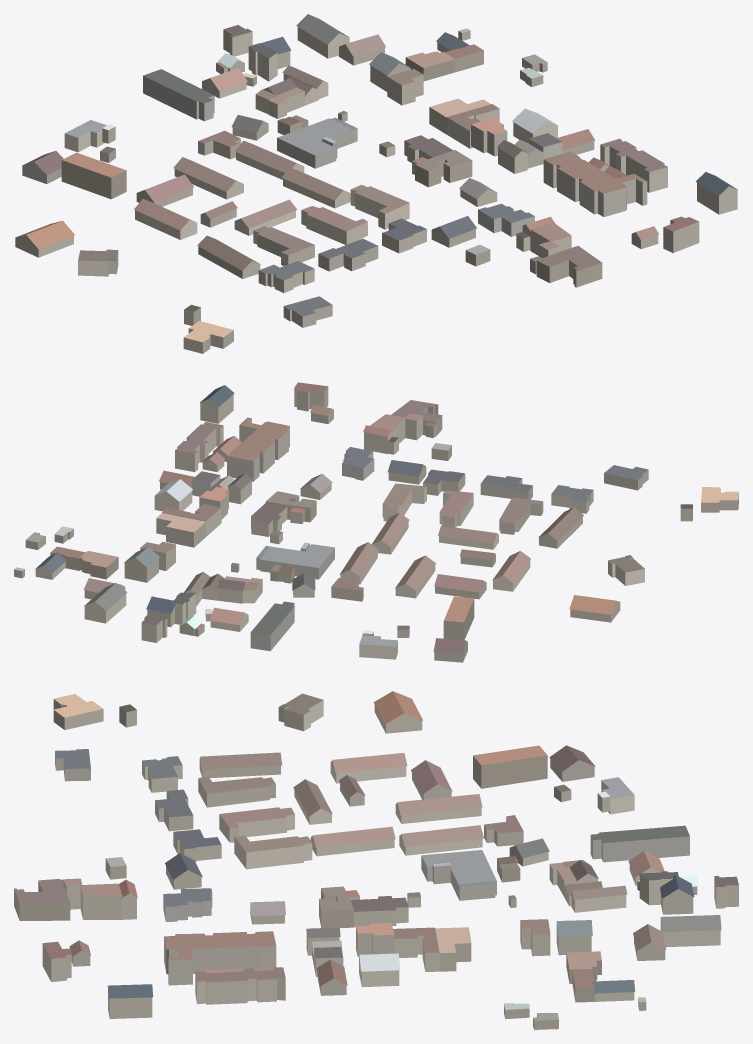
3 views of the same model, one above another, from view 1: azimuth 30°, elevation 25°; view 2: azimuth 150°, elevation 25°; view 3: azimuth 270°, elevation 25° (orthographic). The views are drawn at different scales.
Parts seen in each view (by area): view 1: tuile; view 2: tuile; view 3: tuile.
Boxes of the visible parts, <box> form: tuile: <box>15,14,737,353</box>; tuile: <box>14,382,738,662</box>; tuile: <box>14,691,738,1029</box>.
Bounding box in the file's own units: 259 × 15.25 × 255.
